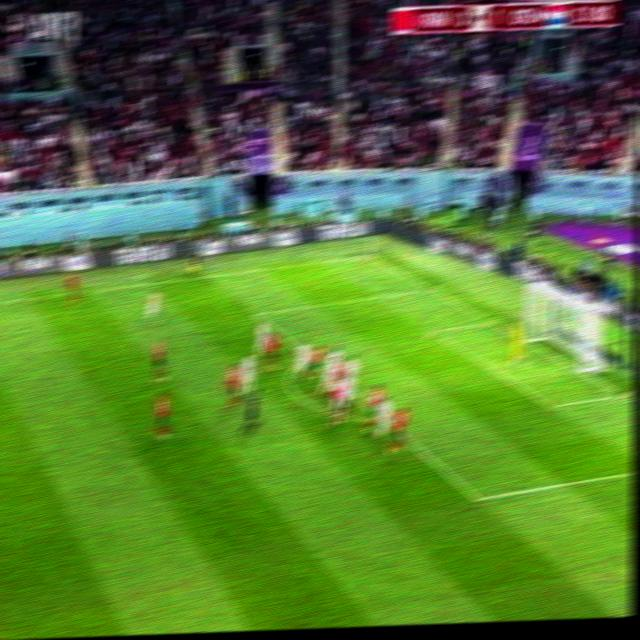bigarea_bottom_inner: (467, 484, 491, 511)
bigarea_top_inner: (248, 305, 266, 322)
bigarea_top_outter: (422, 280, 442, 296)
corner: (361, 249, 380, 262)
smallarea_bottom_inner: (542, 394, 563, 416)
smallarea_bottom_outter: (614, 383, 634, 403)
smallarea_top_inner: (424, 321, 442, 339)
smallarea_top_outter: (481, 312, 499, 329)
